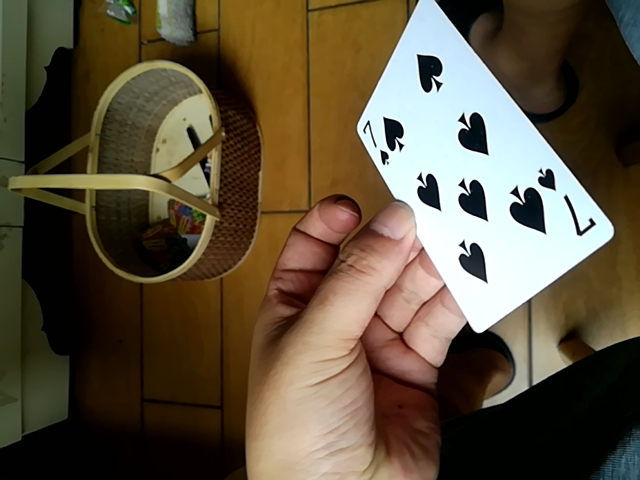ht 7: (355, 7, 611, 344)
